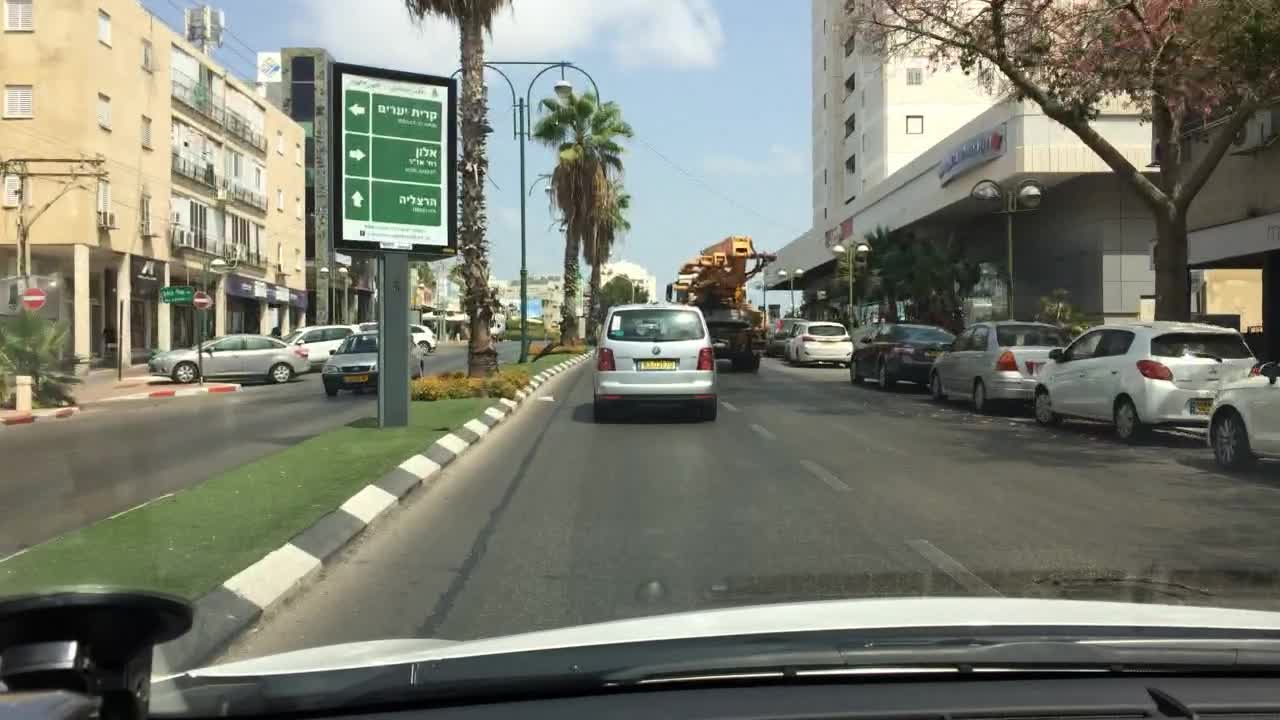car: (1035, 323, 1256, 440), (591, 299, 715, 422), (665, 238, 770, 372), (929, 320, 1062, 411), (1206, 357, 1278, 470), (147, 332, 311, 381), (848, 324, 953, 389), (320, 335, 423, 399), (287, 324, 355, 369), (787, 322, 850, 366), (766, 316, 800, 357), (409, 322, 438, 353), (781, 320, 803, 357), (429, 308, 466, 320), (486, 317, 505, 339), (357, 322, 379, 332), (523, 316, 544, 326), (547, 319, 562, 329)
person: (101, 323, 117, 360)
traffic sign: (334, 62, 454, 253), (156, 286, 192, 302), (21, 289, 44, 307), (192, 292, 209, 311)
